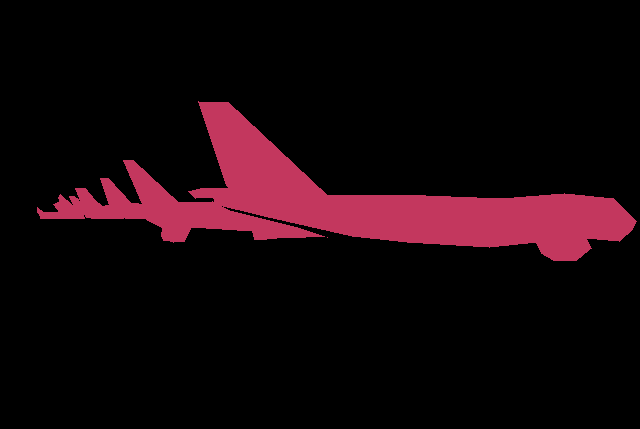Airplane: (188, 101, 637, 261), (123, 160, 328, 243), (100, 178, 144, 219), (75, 188, 123, 219), (37, 194, 85, 218), (69, 196, 95, 218)
